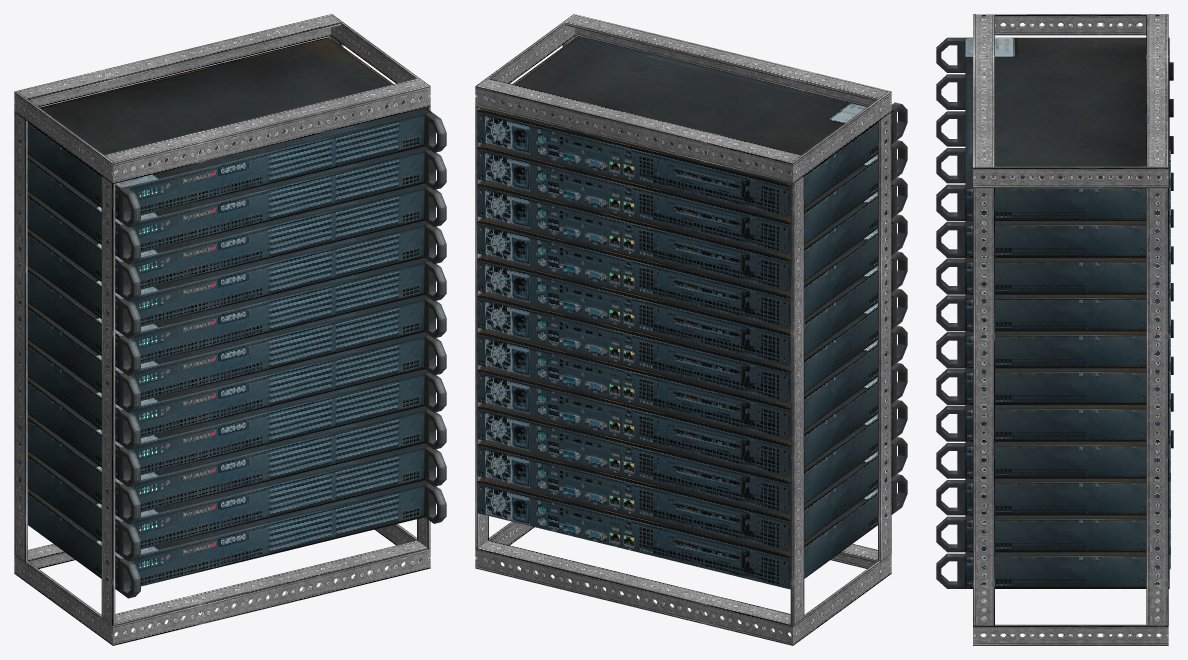
The model's file is late_90s_graphics_server_asset.glb.
3 views of the same model, side by side, from view 1: azimuth 30°, elevation 25°; view 2: azimuth 150°, elevation 25°; view 3: azimuth 270°, elevation 25° (orthographic).
Visible parts, largest first — view 1: Object_2; view 2: Object_2; view 3: Object_2.
Part boxes in pixels (x1,y1,x2,y2): Object_2: (14, 14, 446, 645); Object_2: (475, 14, 907, 645); Object_2: (936, 14, 1173, 645).
Size of the model in its own units: 0.4437 by 0.6434 by 0.2891.
Materials: 1 (1 with a texture image).
